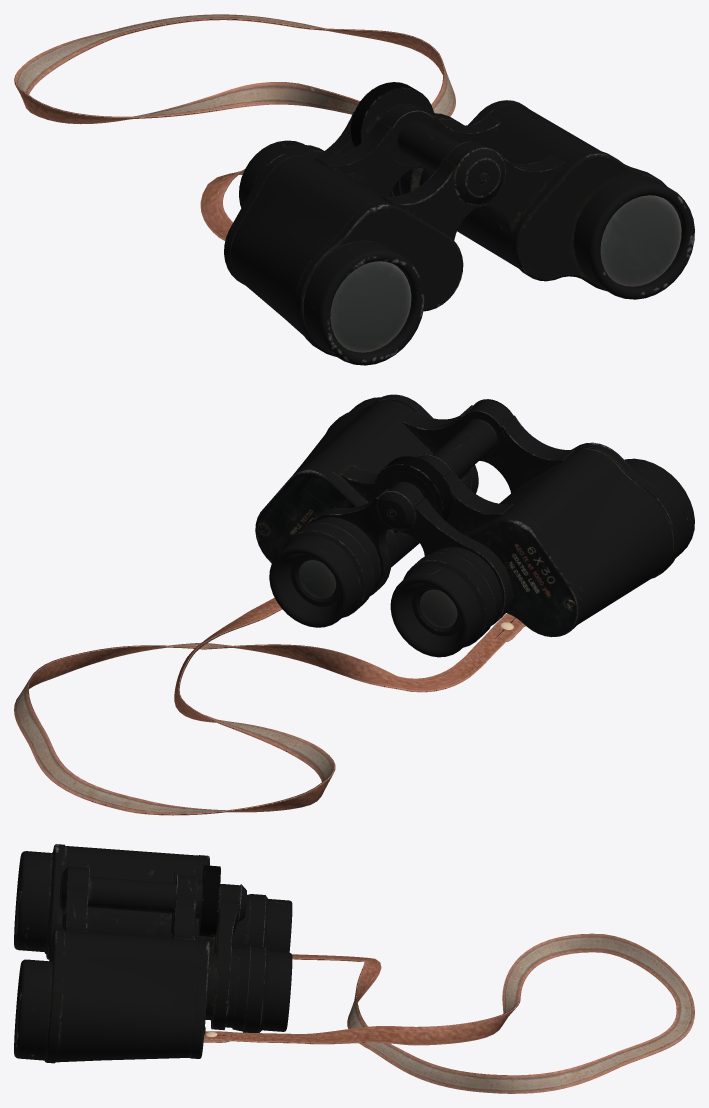
File: binoculars.gltf
3 views of the same model, one above another, from view 1: azimuth 30°, elevation 25°; view 2: azimuth 150°, elevation 25°; view 3: azimuth 270°, elevation 25° (orthographic). The views are drawn at different scales.
Visible parts, largest first — view 1: binoculars_right, binoculars_left, binoculars_strap, binoculars_column; view 2: binoculars_right, binoculars_left, binoculars_strap, binoculars_column; view 3: binoculars_left, binoculars_strap, binoculars_right, binoculars_column.
Part boxes in pixels (<box>): binoculars_right: <box>224,111,480,365</box>; binoculars_left: <box>390,100,694,299</box>; binoculars_strap: <box>14,14,455,240</box>; binoculars_column: <box>350,82,505,205</box>; binoculars_right: <box>390,415,694,657</box>; binoculars_left: <box>255,394,483,627</box>; binoculars_strap: <box>14,598,525,815</box>; binoculars_column: <box>373,399,513,533</box>; binoculars_left: <box>14,886,292,1063</box>; binoculars_strap: <box>203,933,694,1093</box>; binoculars_right: <box>14,844,292,959</box>; binoculars_column: <box>59,865,246,936</box>.
Size of the model in its own units: 0.1669 by 0.0662 by 0.2879.
Materials: 2 (2 with a texture image).
